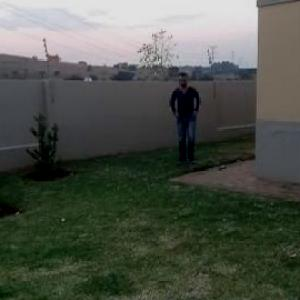follow: (170, 69, 204, 171)
